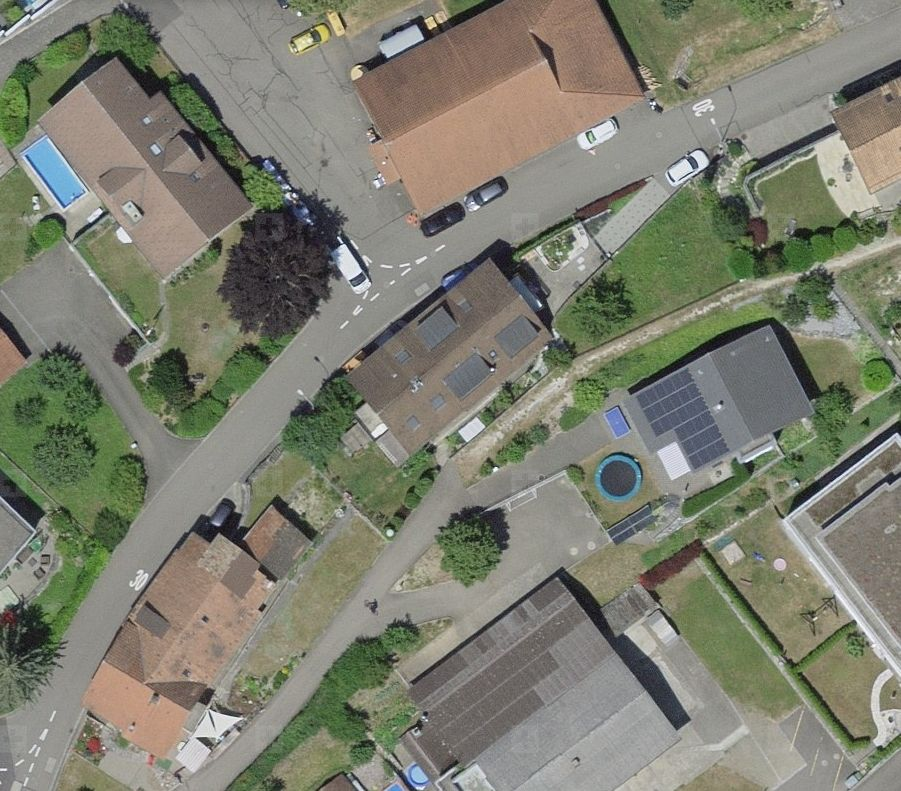solar: (631, 368, 729, 471)
